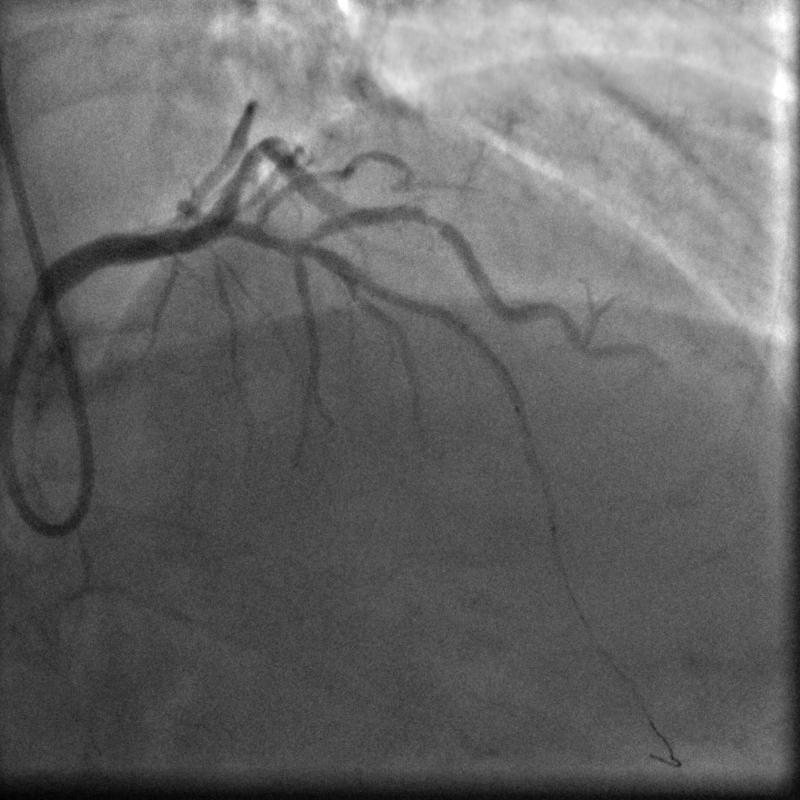Stenosis: (414, 200, 447, 238)
